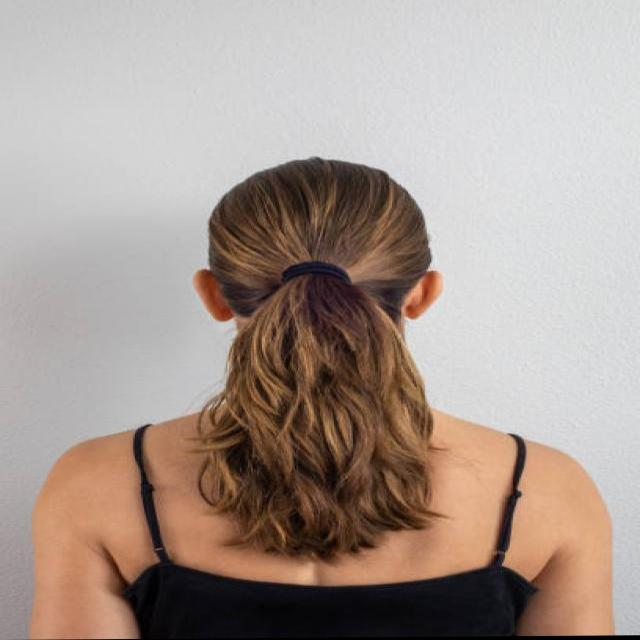no helmet: (201, 154, 455, 354)
